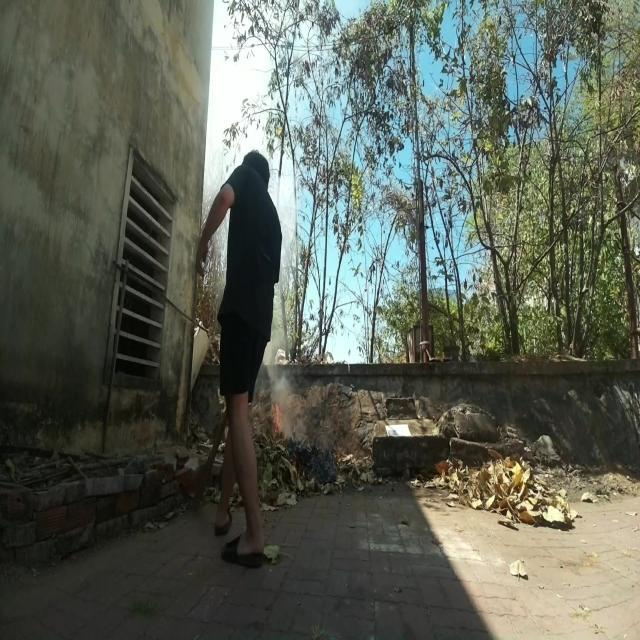Fire: (271, 404, 283, 440)
Smoke: (264, 334, 310, 440)
